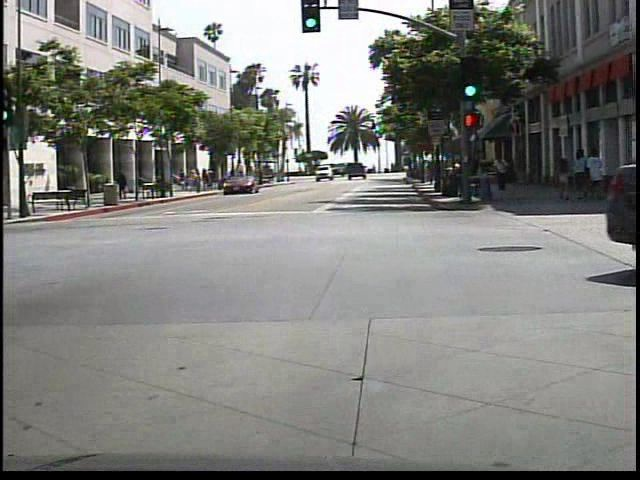person: (488, 151, 512, 196), (114, 163, 132, 205)
